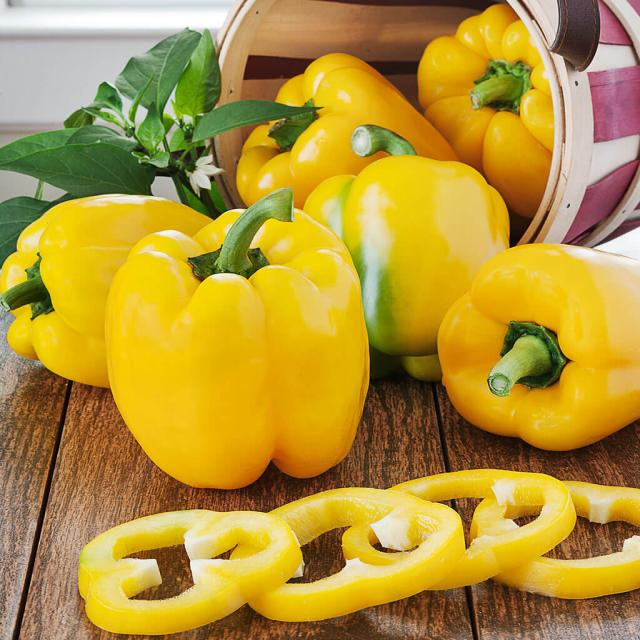bell pepper: (110, 217, 362, 496), (455, 252, 640, 452), (238, 43, 390, 181), (344, 164, 531, 270), (3, 200, 87, 365)
